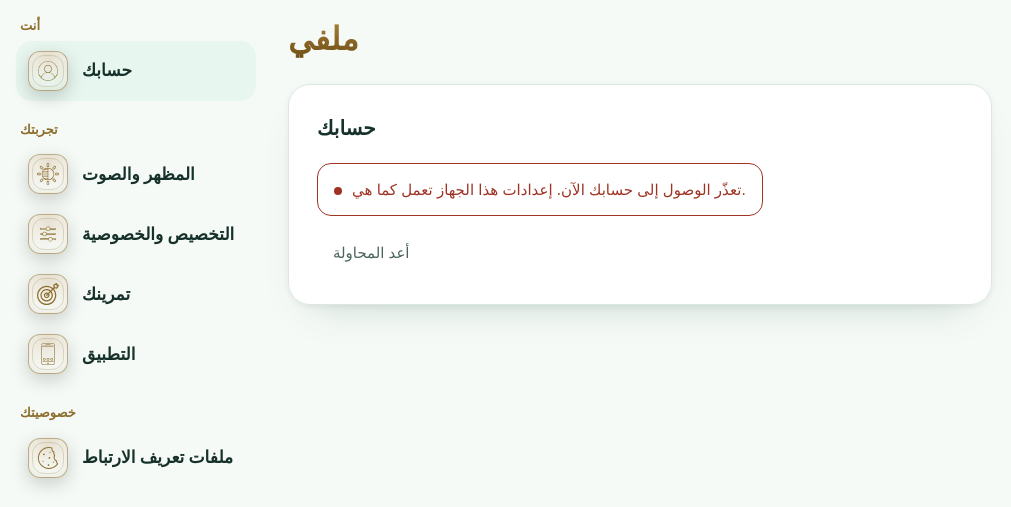
MeScreen for a guest › says when the account cannot be reached, and tries again
Check: the text "تعذّر الوصول إلى حسابك الآن. إعدادات هذا الجهاز تعمل كما هي." is shown, box [352,176,746,203]
Click the button "أعد المحاولة": (371, 252) [317,228,426,276]
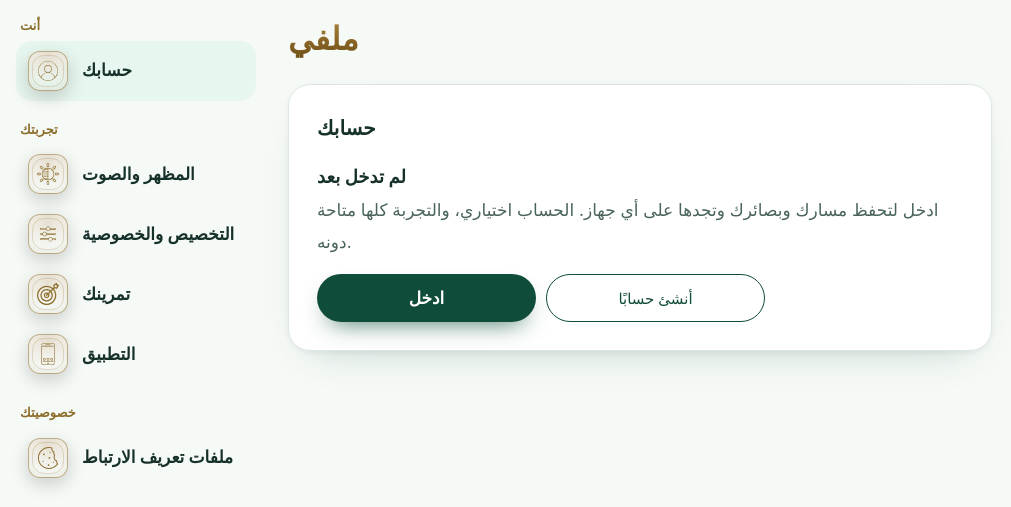
Check: the link "ادخل" is shown, box [317,274,536,322]
